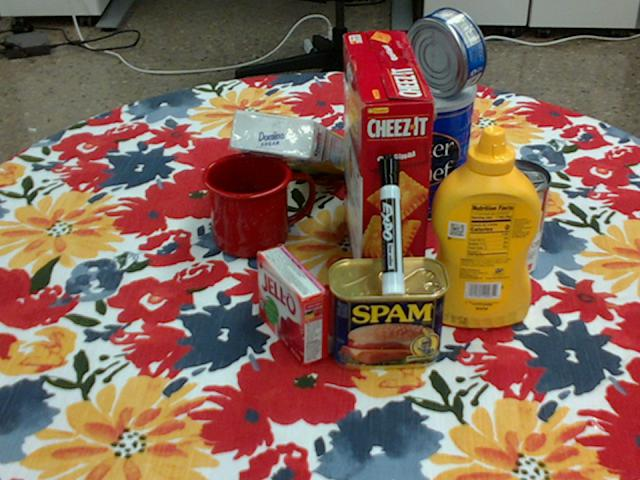cracker_box: (342, 33, 434, 305)
gelatin_box: (258, 243, 329, 364)
large_marker: (377, 153, 405, 295)
master_chef_can: (377, 66, 475, 222)
mug: (203, 152, 316, 258)
mustard_bottle: (427, 125, 541, 328)
potted_meat_can: (330, 257, 450, 369)
sugar_box: (231, 110, 357, 177)
tomato_soup_can: (473, 159, 551, 278)
tuna_fish_can: (402, 8, 485, 96)
